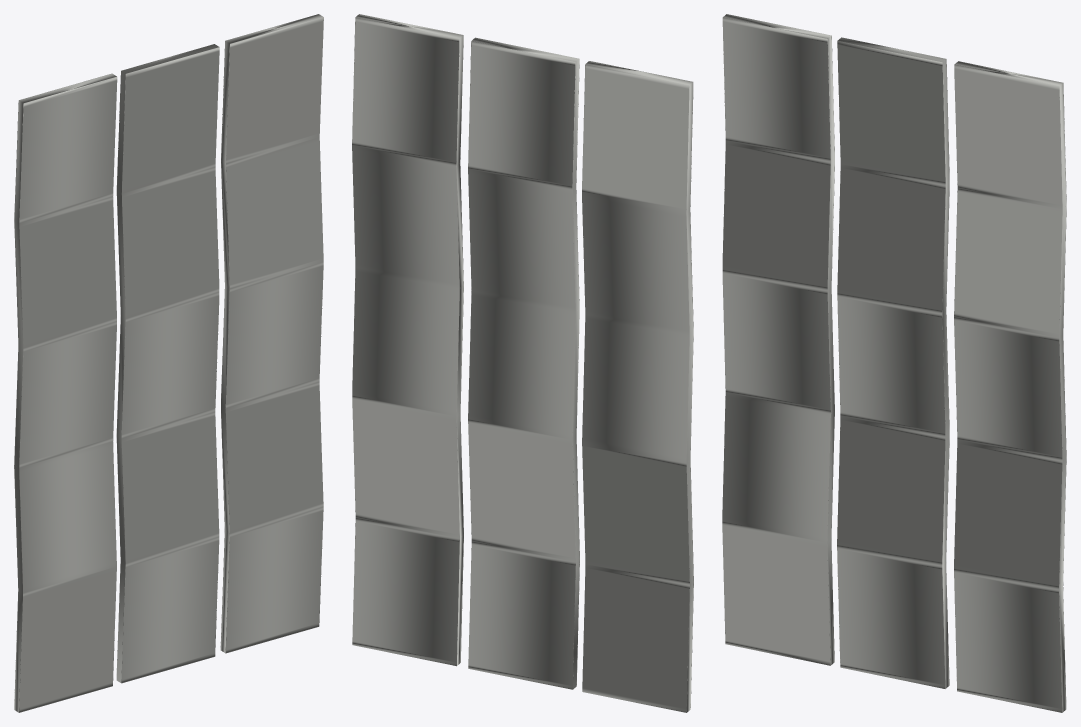
File: iss-radiators-starboard.glb
3 renders of one model, left to right at view 1: azimuth 30°, elevation 25°; view 2: azimuth 150°, elevation 25°; view 3: azimuth 330°, elevation 25°, orthographic. The views are drawn at different scales.
Visible parts, largest first — view 1: radiators-starboard; view 2: radiators-starboard; view 3: radiators-starboard.
Part boxes in pixels (bbox=[...]): radiators-starboard: bbox=[14, 14, 323, 712]; radiators-starboard: bbox=[352, 14, 693, 712]; radiators-starboard: bbox=[722, 14, 1066, 712].
Bounding box in the file's own units: 10.47 × 19.42 × 1.24.
1 material, 1 textured.
